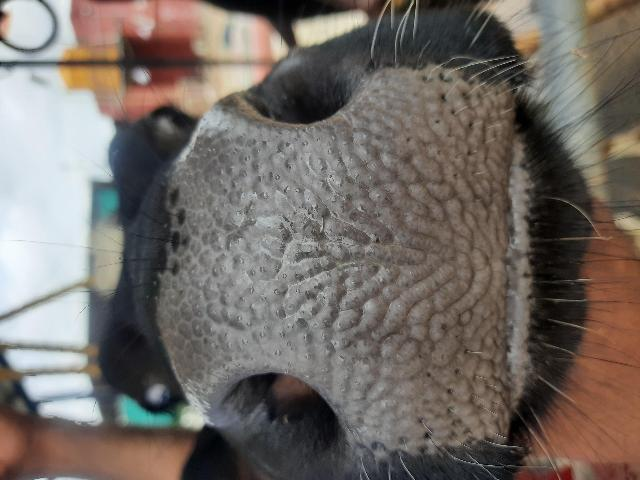Muzzle: (196, 130, 508, 386)
